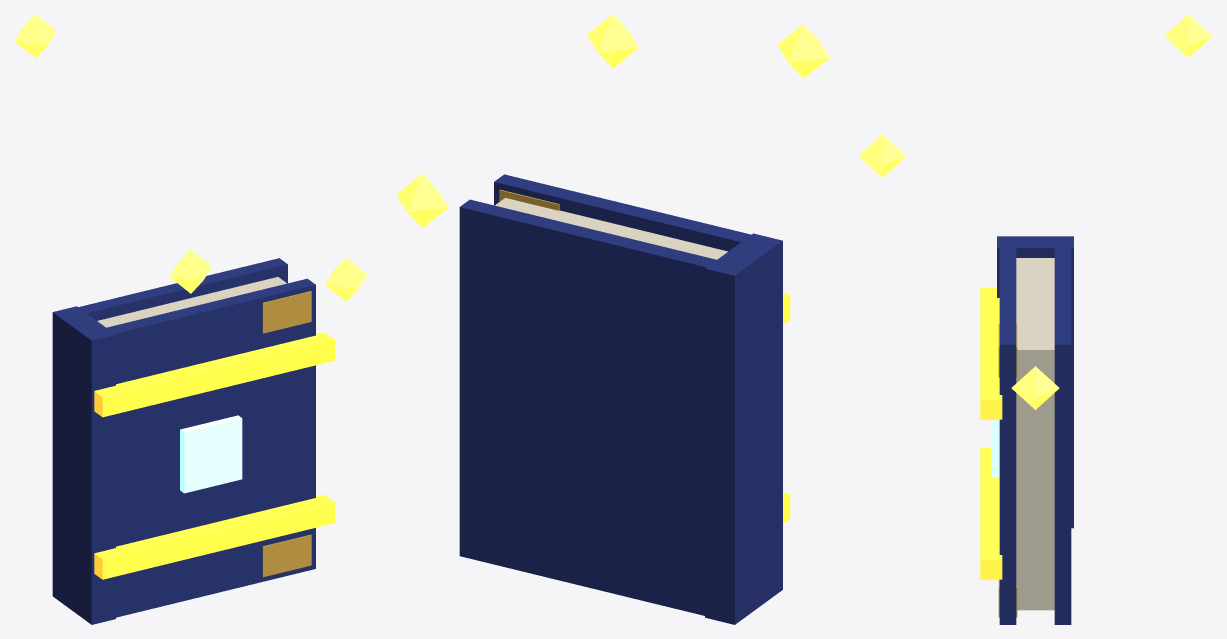
File: legend_book_forbidden.glb
3 views of the same model, side by side, from view 1: azimuth 30°, elevation 25°; view 2: azimuth 150°, elevation 25°; view 3: azimuth 270°, elevation 25° (orthographic). The views are drawn at different scales.
Parts seen in each view (by area): view 1: bookCover_bookCover2, item_bookCover2, item_legendGlow, bookCover_bookRune, bookCover_bookTrim2, item_legendSpark, bookPages_pages; view 2: item_bookCover2, bookCover_bookCover2, item_legendSpark, bookPages_pages; view 3: bookPages_pages, item_bookCover2, bookCover_bookCover2, item_legendGlow, item_legendSpark, bookCover_bookRune.
Boxes of the visible parts, bbox=[...] form: bookCover_bookCover2: bbox=[105, 278, 315, 617]; item_bookCover2: bbox=[52, 258, 287, 624]; item_legendGlow: bbox=[94, 332, 335, 579]; bookCover_bookRune: bbox=[180, 415, 242, 493]; bookCover_bookTrim2: bbox=[262, 291, 311, 577]; item_legendSpark: bbox=[14, 14, 367, 301]; bookPages_pages: bbox=[97, 277, 286, 327]; item_bookCover2: bbox=[459, 199, 782, 624]; bookCover_bookCover2: bbox=[494, 174, 765, 251]; item_legendSpark: bbox=[396, 14, 829, 228]; bookPages_pages: bbox=[495, 198, 727, 259]; bookPages_pages: bbox=[1016, 258, 1054, 610]; item_bookCover2: bbox=[997, 236, 1073, 624]; bookCover_bookCover2: bbox=[999, 242, 1016, 624]; item_legendGlow: bbox=[980, 287, 1002, 579]; item_legendSpark: bbox=[858, 14, 1212, 409]; bookCover_bookRune: bbox=[991, 419, 999, 477].
Size of the model in its own units: 0.3045 by 0.522 by 0.3211.
